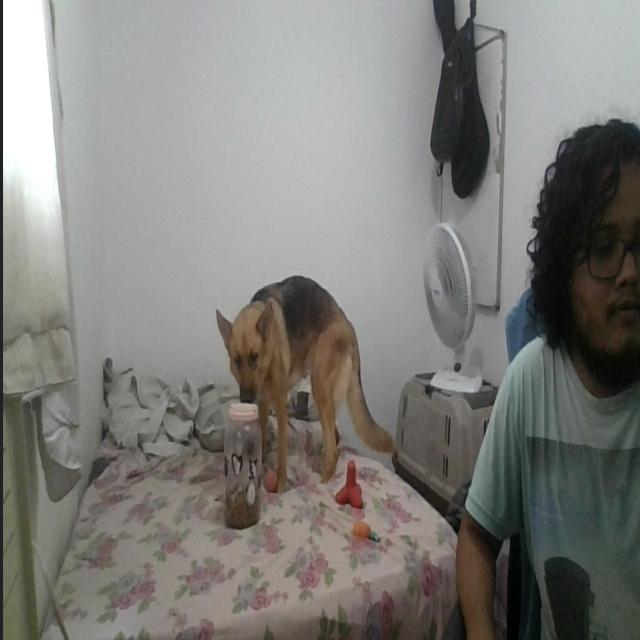bolinha: (260, 465, 282, 498)
brinquedo caro: (329, 454, 371, 514)
cachorro: (215, 264, 402, 496)
cenora de brinquedo: (349, 516, 384, 544)
humano: (454, 120, 640, 640)
racao: (222, 397, 262, 532)
